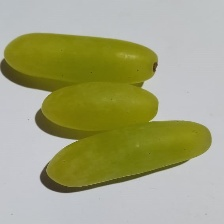grapes: (62, 27, 199, 180)
